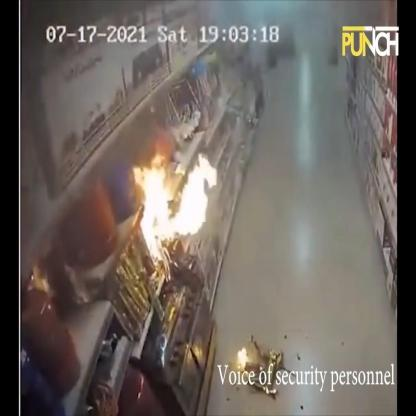fire: (133, 153, 218, 263), (238, 348, 248, 369)
